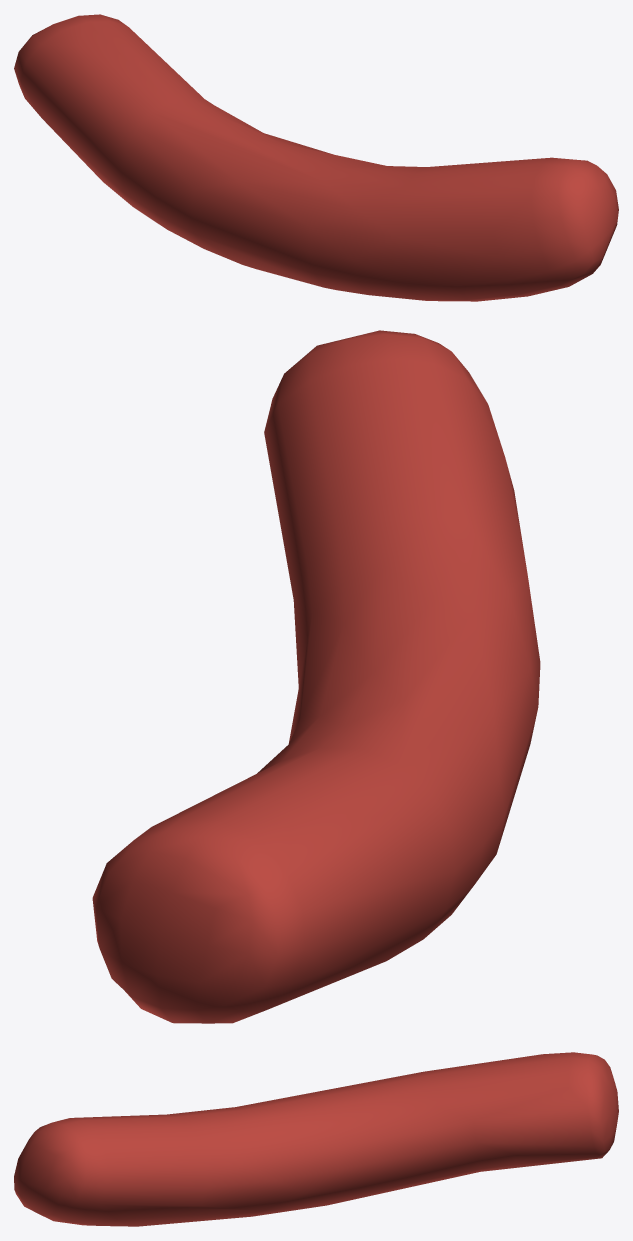
Rendered from musculos-plantar-tendon-sheath-of-fibularis-longus-muscle-r.glb.
The picture shows the model from 3 angles, top to bottom: view 1: azimuth 30°, elevation 25°; view 2: azimuth 150°, elevation 25°; view 3: azimuth 270°, elevation 25°; orthographic projection. The views are drawn at different scales.
Parts seen in each view (by area): view 1: Plantar tendon sheath of fibularis longus muscle.r; view 2: Plantar tendon sheath of fibularis longus muscle.r; view 3: Plantar tendon sheath of fibularis longus muscle.r.
Part boxes in pixels (x1,y1,x2,y2): Plantar tendon sheath of fibularis longus muscle.r: (14,14,618,301); Plantar tendon sheath of fibularis longus muscle.r: (92,330,540,1023); Plantar tendon sheath of fibularis longus muscle.r: (14,1052,618,1226).
Bounding box in the file's own units: 0.0138 × 0.00711 × 0.027.
